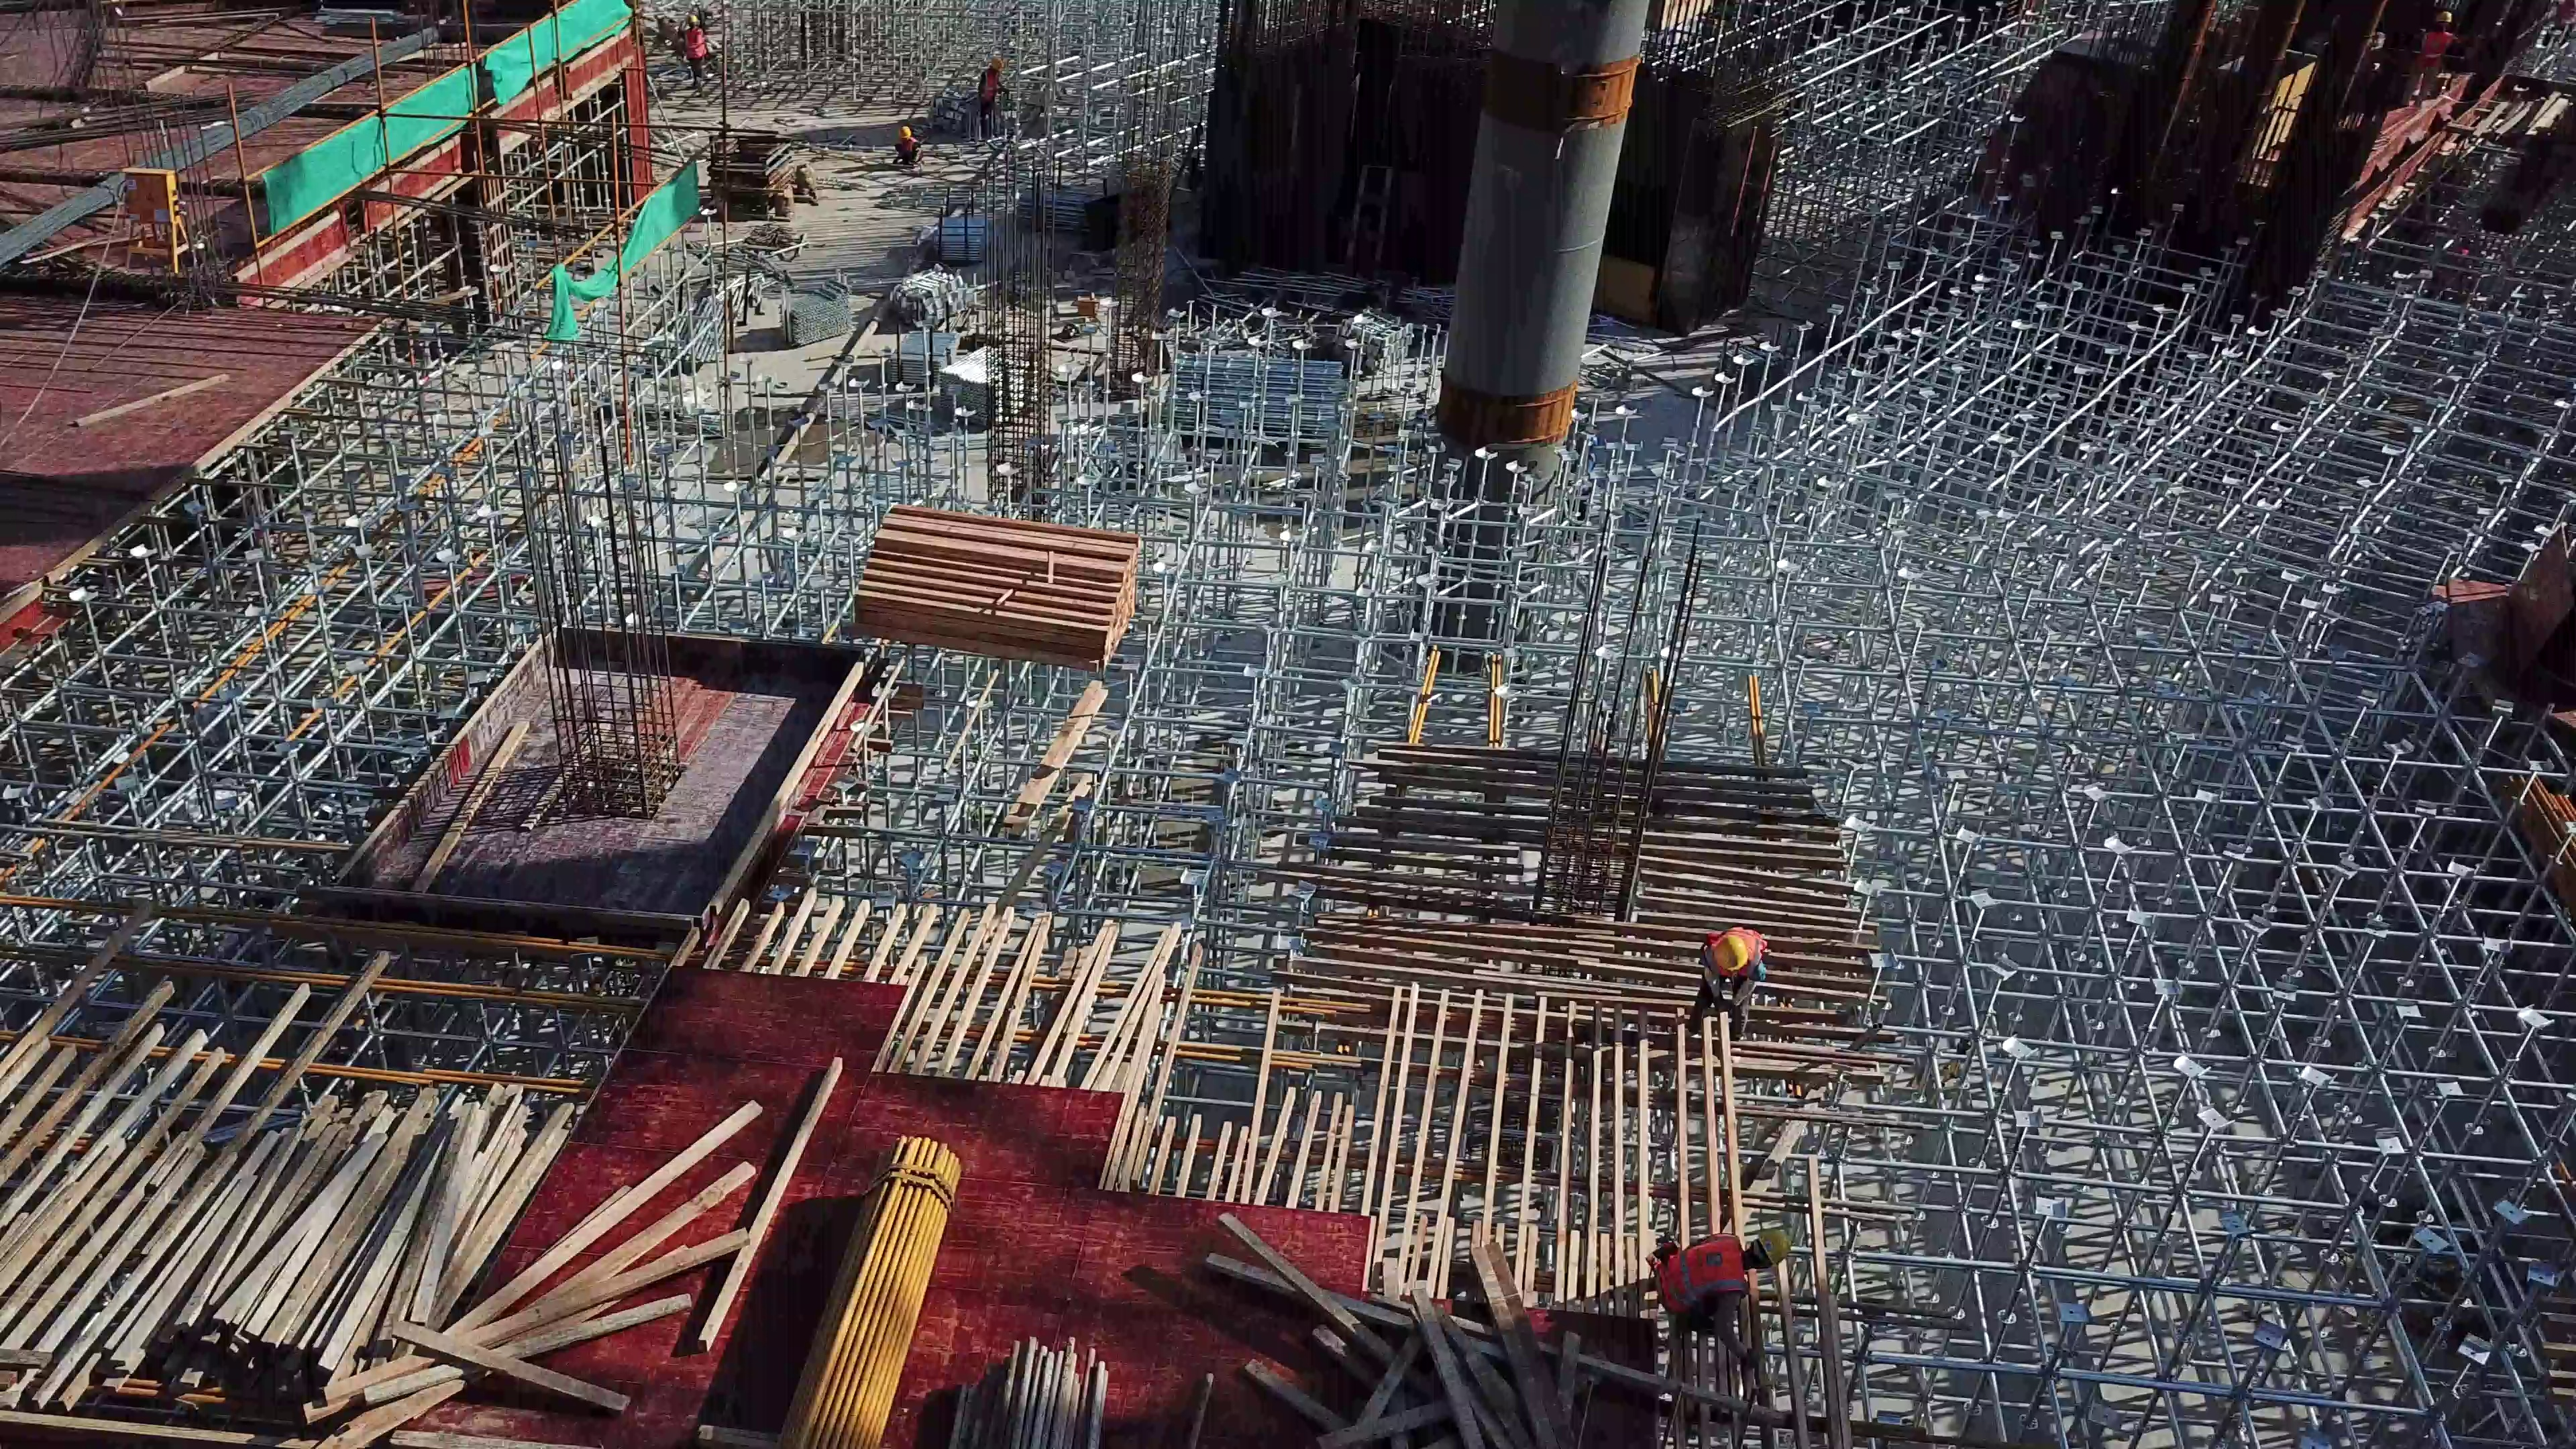helmet: (1758, 1226, 1792, 1266), (1713, 934, 1748, 972), (897, 125, 912, 140)
person: (1646, 1225, 1795, 1368), (1686, 925, 1773, 1042), (676, 6, 723, 94), (976, 58, 1009, 129), (891, 123, 924, 165)
vest: (1656, 1240, 1744, 1309)
